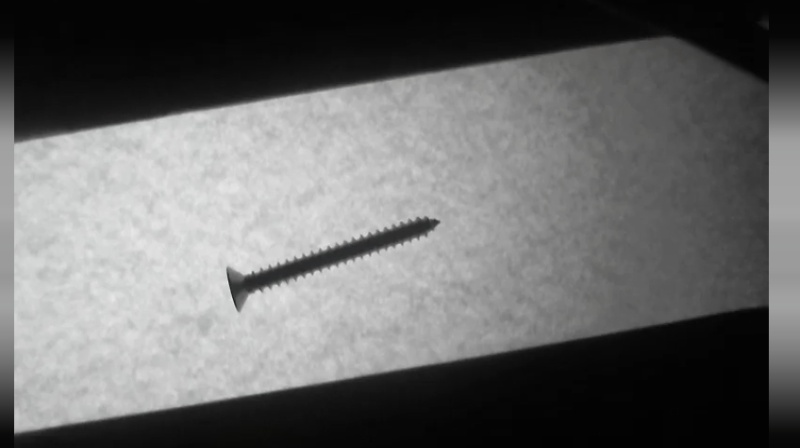S002: (222, 214, 445, 316)
